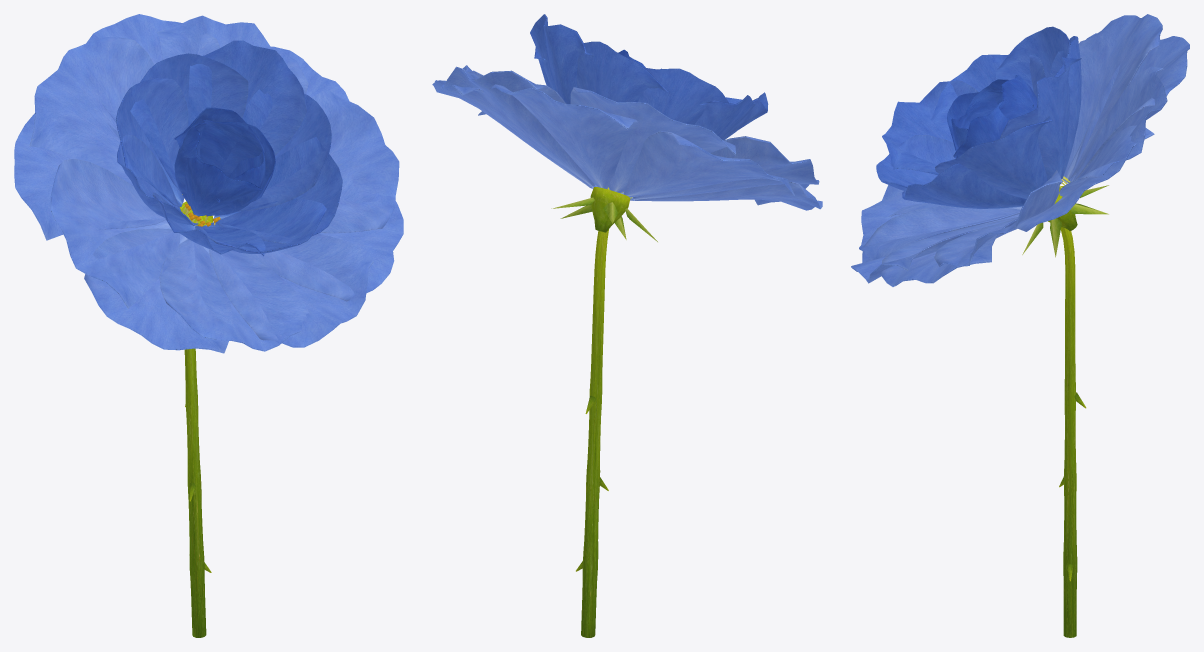
File: color_4.glb
The picture shows the model from 3 angles, left to right: view 1: azimuth 30°, elevation 25°; view 2: azimuth 150°, elevation 25°; view 3: azimuth 270°, elevation 25°; orthographic projection.
Parts seen in each view (by area): view 1: Petal_1_outer_03, Petal_3_outer_04, Petal_5_outer_04, Petal_6_outer_02, Petal_4_outer_01, Petal_8_outer_02, Petal_15_middle_03, Petal_7_outer_03, Petal_17_middle_01, Petal_16_middle_04, Stem_Skinned, Petal_14_middle_04 (+13 smaller); view 2: Petal_0_outer_01, Stem_Skinned, Petal_2_outer_01, Petal_10_outer_02, Petal_1_outer_03, Petal_16_middle_04, Petal_3_outer_04, Petal_17_middle_01, Petal_15_middle_03, Petal_4_outer_01, Hypanthium_and_five_sepals, Petal_18_middle_02 (+2 smaller); view 3: Petal_1_outer_03, Stem_Skinned, Petal_14_middle_04, Petal_6_outer_02, Petal_10_outer_02, Petal_15_middle_03, Petal_11_middle_03, Petal_13_middle_02, Petal_7_outer_03, Petal_0_outer_01, Petal_8_outer_02, Petal_5_outer_04 (+10 smaller).
Boxes of the visible parts, x1=… form: Petal_1_outer_03: x1=29, y1=37, x2=154, y2=186; Petal_3_outer_04: x1=50, y1=159, x2=179, y2=308; Petal_5_outer_04: x1=159, y1=239, x2=309, y2=351; Petal_6_outer_02: x1=209, y1=234, x2=373, y2=347; Petal_4_outer_01: x1=84, y1=228, x2=232, y2=353; Petal_8_outer_02: x1=312, y1=90, x2=399, y2=233; Petal_15_middle_03: x1=188, y1=40, x2=306, y2=155; Petal_7_outer_03: x1=246, y1=172, x2=403, y2=301; Petal_17_middle_01: x1=115, y1=78, x2=188, y2=206; Petal_16_middle_04: x1=130, y1=53, x2=248, y2=191; Stem_Skinned: x1=184, y1=212, x2=211, y2=637; Petal_14_middle_04: x1=237, y1=89, x2=331, y2=211; Petal_0_outer_01: x1=489, y1=84, x2=638, y2=188; Stem_Skinned: x1=576, y1=229, x2=608, y2=637; Petal_2_outer_01: x1=624, y1=130, x2=794, y2=197; Petal_10_outer_02: x1=441, y1=66, x2=594, y2=186; Petal_1_outer_03: x1=570, y1=87, x2=735, y2=193; Petal_16_middle_04: x1=576, y1=41, x2=669, y2=102; Petal_3_outer_04: x1=633, y1=136, x2=819, y2=200; Petal_17_middle_01: x1=638, y1=67, x2=728, y2=124; Petal_15_middle_03: x1=530, y1=14, x2=593, y2=104; Petal_4_outer_01: x1=632, y1=182, x2=822, y2=210; Hypanthium_and_five_sepals: x1=551, y1=187, x2=657, y2=241; Petal_18_middle_02: x1=694, y1=95, x2=755, y2=138; Petal_1_outer_03: x1=1063, y1=14, x2=1162, y2=182; Stem_Skinned: x1=1059, y1=227, x2=1086, y2=637; Petal_14_middle_04: x1=935, y1=116, x2=1051, y2=198; Petal_6_outer_02: x1=851, y1=206, x2=1020, y2=283; Petal_10_outer_02: x1=1059, y1=66, x2=1167, y2=196; Petal_15_middle_03: x1=1000, y1=57, x2=1081, y2=184; Petal_11_middle_03: x1=882, y1=80, x2=978, y2=174; Petal_13_middle_02: x1=902, y1=163, x2=1026, y2=208; Petal_7_outer_03: x1=881, y1=217, x2=1018, y2=286; Petal_0_outer_01: x1=1070, y1=36, x2=1189, y2=181; Petal_8_outer_02: x1=934, y1=170, x2=1062, y2=266; Petal_5_outer_04: x1=859, y1=185, x2=1021, y2=260.
Bounding box in the file's own units: 0.1988 × 0.3289 × 0.1713.
7 materials, 7 textured.
